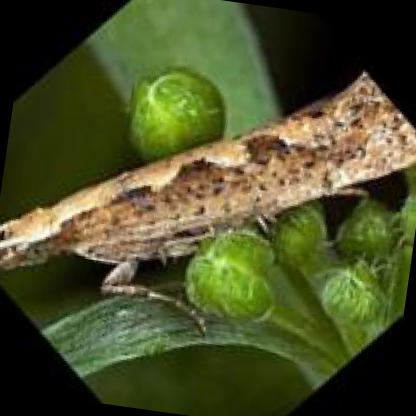plutella: (0, 64, 416, 346)
